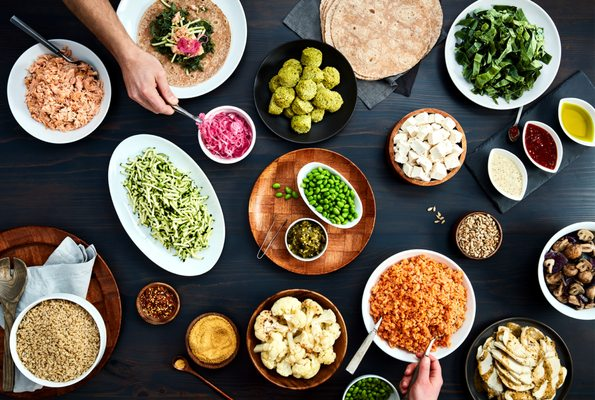pizza: (521, 121, 564, 173), (557, 97, 595, 146)
salad: (0, 256, 28, 387), (10, 14, 79, 66), (171, 355, 234, 399)
sushi: (107, 133, 225, 276), (249, 147, 378, 276), (443, 1, 563, 110), (6, 38, 112, 145), (253, 38, 355, 145), (247, 287, 348, 391), (464, 318, 572, 400), (385, 108, 468, 187), (538, 221, 595, 319), (197, 105, 256, 165), (186, 312, 240, 370), (450, 211, 504, 260), (521, 121, 564, 173), (135, 282, 181, 326), (342, 374, 400, 400)
